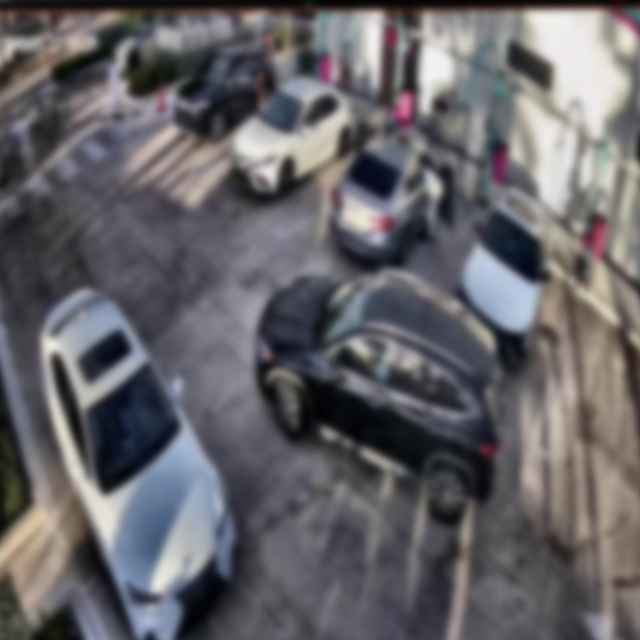Car: (38, 290, 238, 640), (257, 272, 504, 522), (331, 131, 456, 270), (462, 185, 553, 363), (231, 78, 359, 194)
